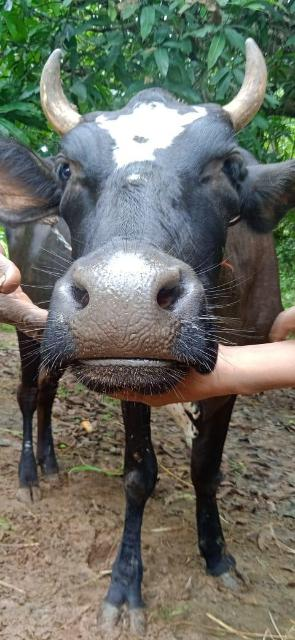Muzzle: (72, 264, 176, 352)
